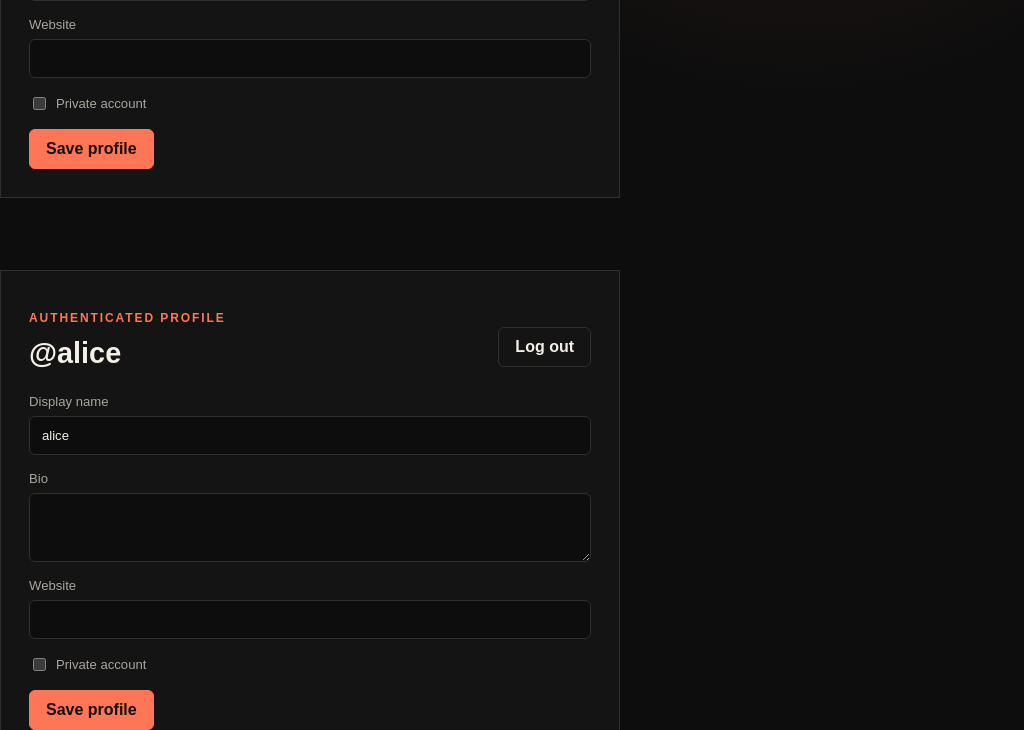
Test: authentication session guards › keeps a newer session when a logout completes after the session it ended was replaced
This screenshot has width=1024, height=730.
(page scrolled)
expect the heading "@alice" is shown: met, box [29, 337, 121, 369]
Step 1. Click the button "Log out" → click(545, 346), box [498, 326, 591, 366]
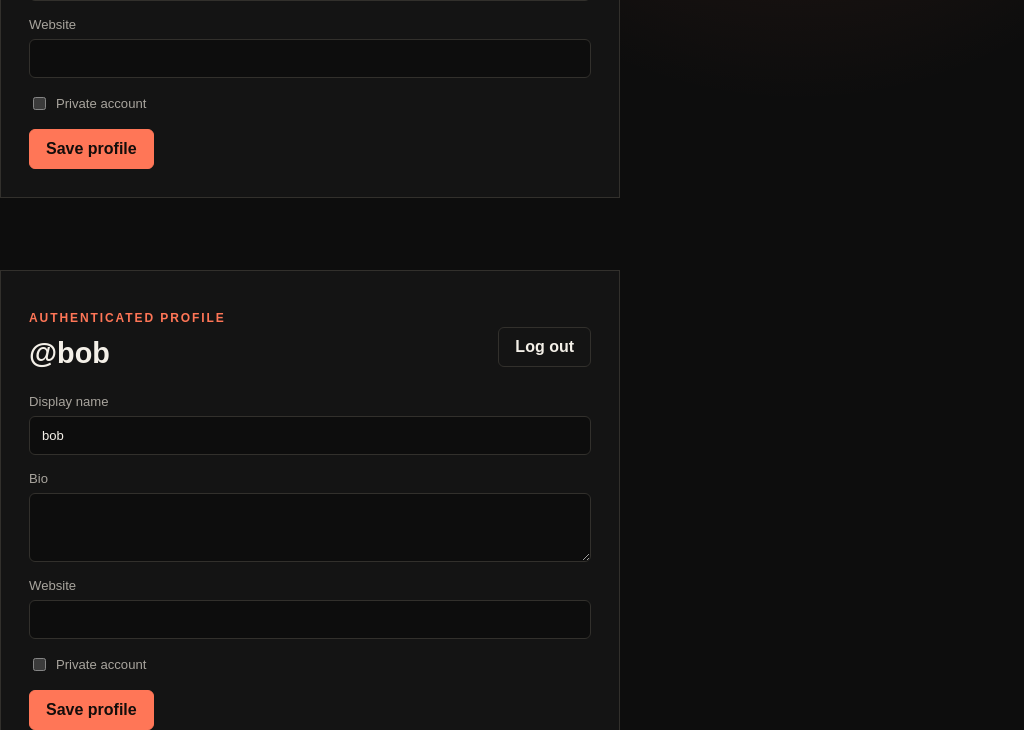
expect the heading "@bob" is shown: met, box [29, 337, 110, 369]
